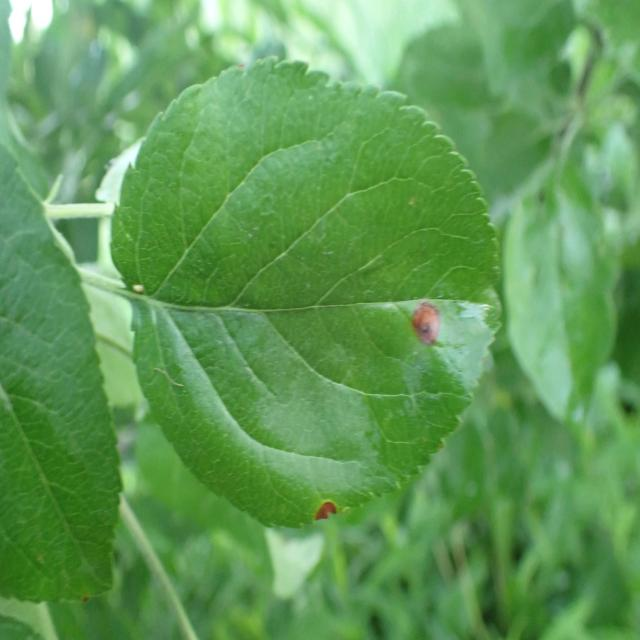Black Rot: (394, 286, 458, 366), (302, 500, 350, 544)
